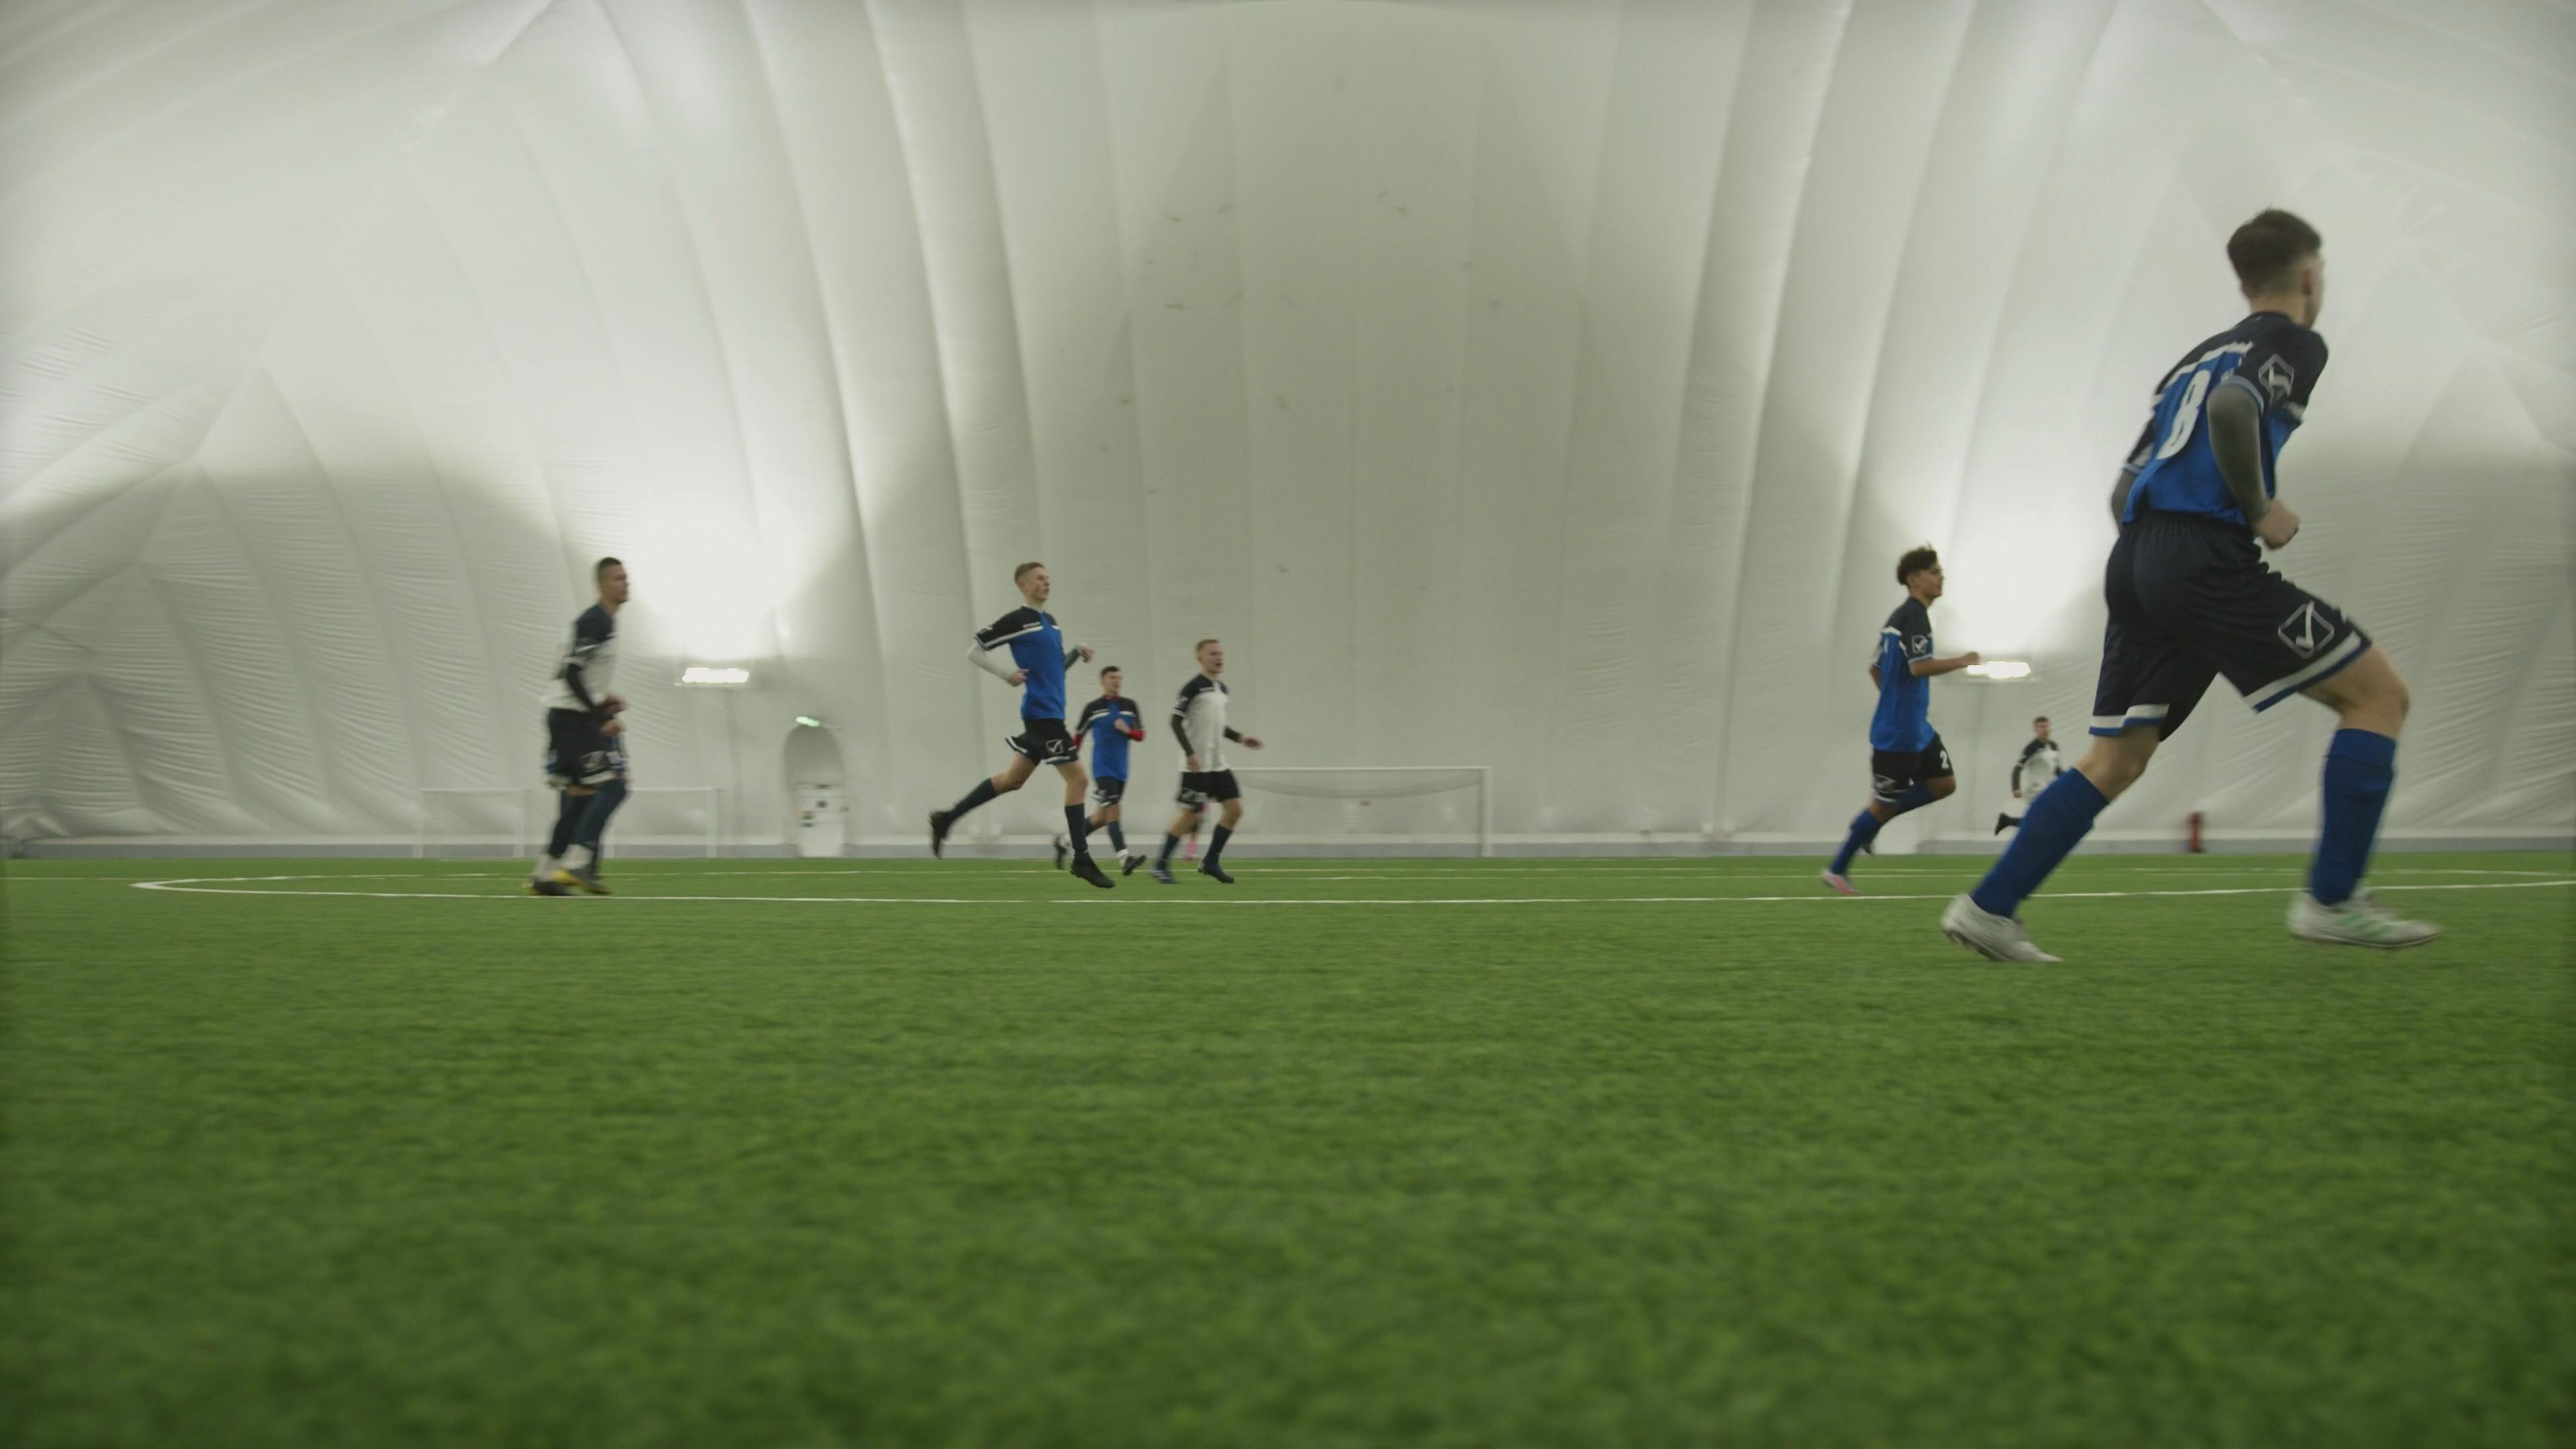team1: (1937, 209, 2440, 962), (1822, 547, 1982, 890), (925, 561, 1083, 862), (1067, 653, 1150, 885)
team2: (531, 556, 637, 893), (1148, 637, 1261, 886), (2010, 713, 2061, 789)
